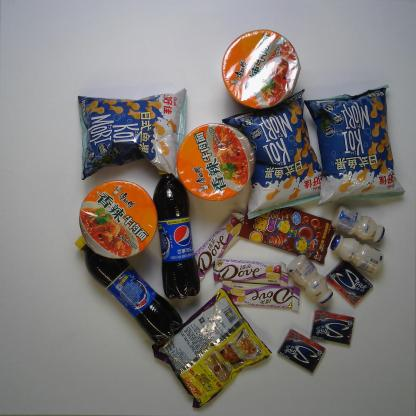Candy: (238, 204, 336, 264)
Chocolate: (194, 211, 245, 280), (221, 281, 300, 312), (212, 258, 290, 287)
Drink: (74, 235, 184, 346), (152, 168, 201, 299)
Gum: (324, 260, 373, 306), (277, 328, 326, 373), (310, 309, 355, 346)
Instant Noodles: (151, 287, 273, 408), (221, 28, 302, 110), (78, 180, 159, 260), (176, 123, 257, 201)
Milk: (286, 254, 334, 304), (330, 235, 385, 274), (331, 206, 385, 242)
Puffed Food: (222, 88, 323, 219), (304, 84, 406, 207), (75, 87, 187, 178)
